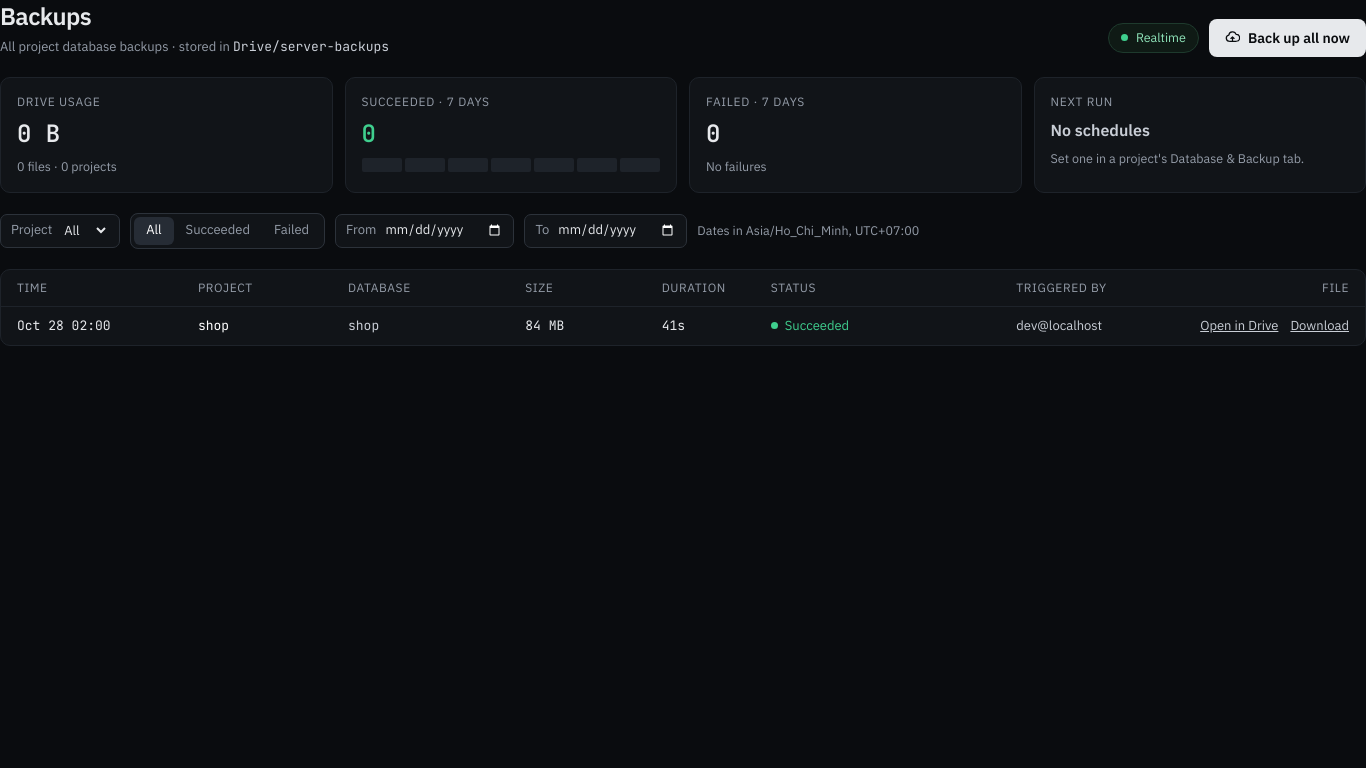
Test: BackupsTable rows › opens a row progress dialog from its status
What coordinates should you click on to do the following:
click the button "Succeeded" in the row of "Oct 28 02:00"
I would click on:
 (810, 326)
Its box is [771,317,849,335].
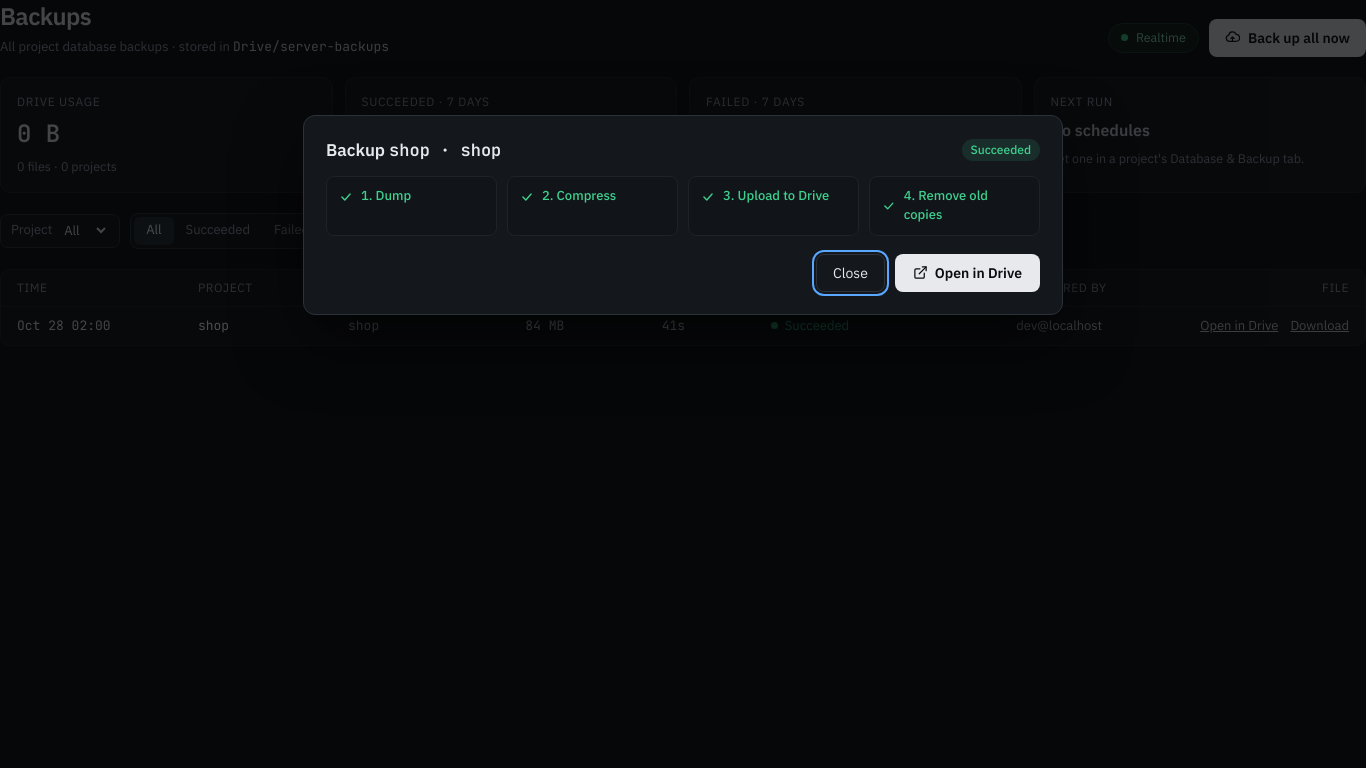
Check: the dialog is shown, box [303,115,1063,315]
